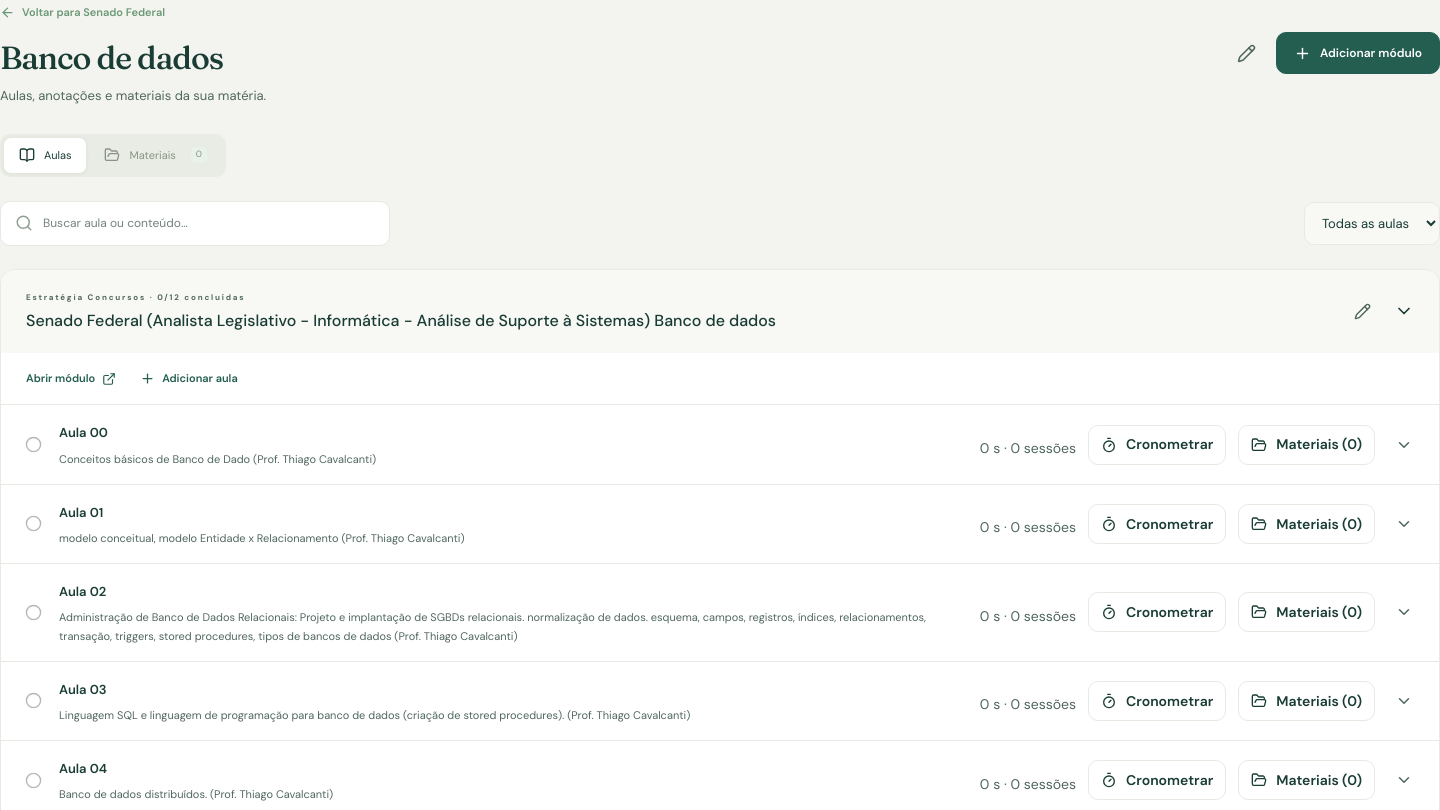
courses first study hierarchy › opens a lesson timer without starting it, keeps the running indicator across modal closing and updates the saved total
What coordinates should you click on to do the following:
click the button with test id "lesson-focus-240830:aula:00"
I would click on:
 (1157, 444)
Its box is [1088,424,1226,464].
Wait 5000 ms
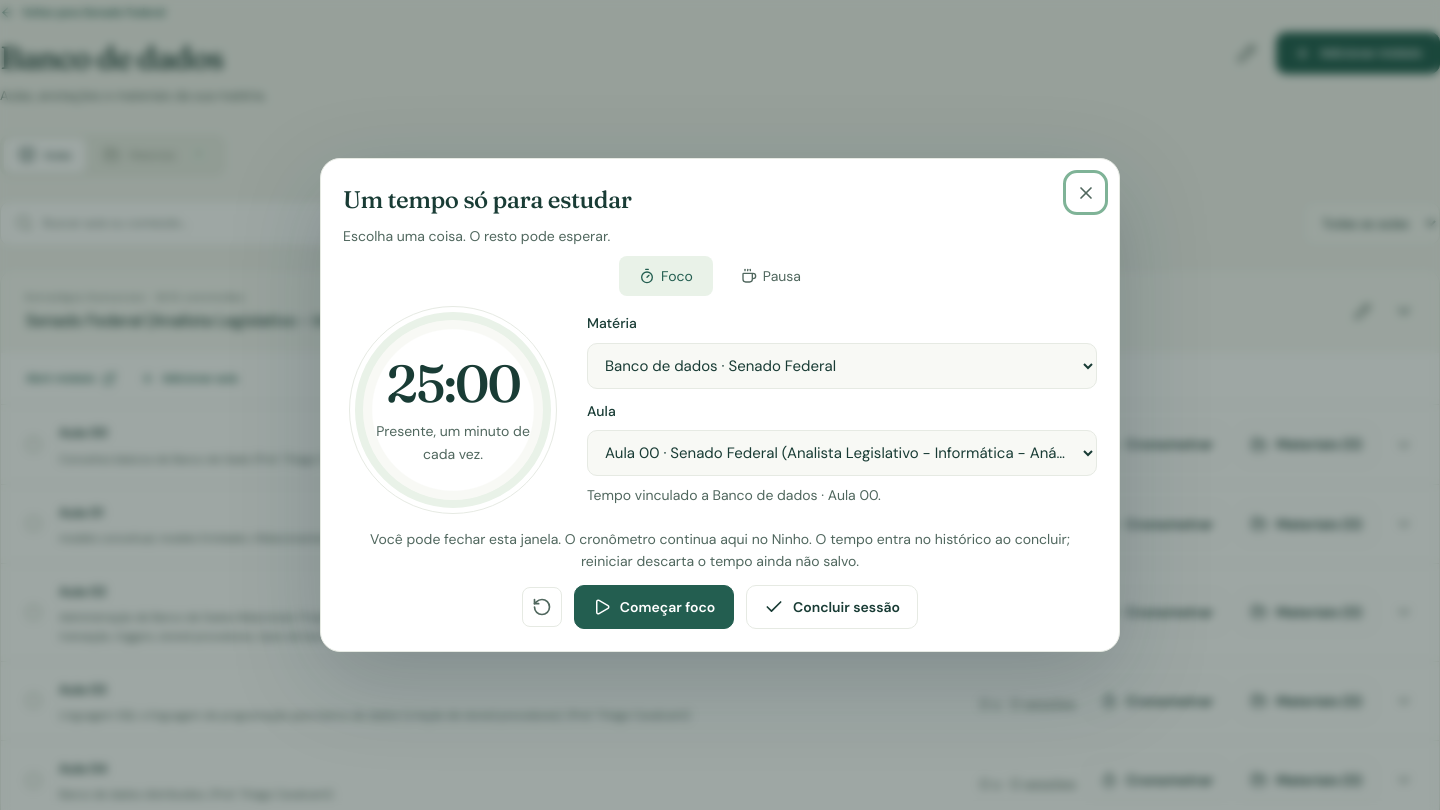
Result: the text with test id "focus-lesson" shows "Banco de dados · Aula 00" at [587,486,881,504]
Result: the text with test id "focus-timer" reads "25:00" at [386,351,520,415]
What coordinates should you click on to do the following:
click the button "Começar foco"
I would click on:
 (654, 607)
Its box is [574,585,734,629].
Wait 1500 ms
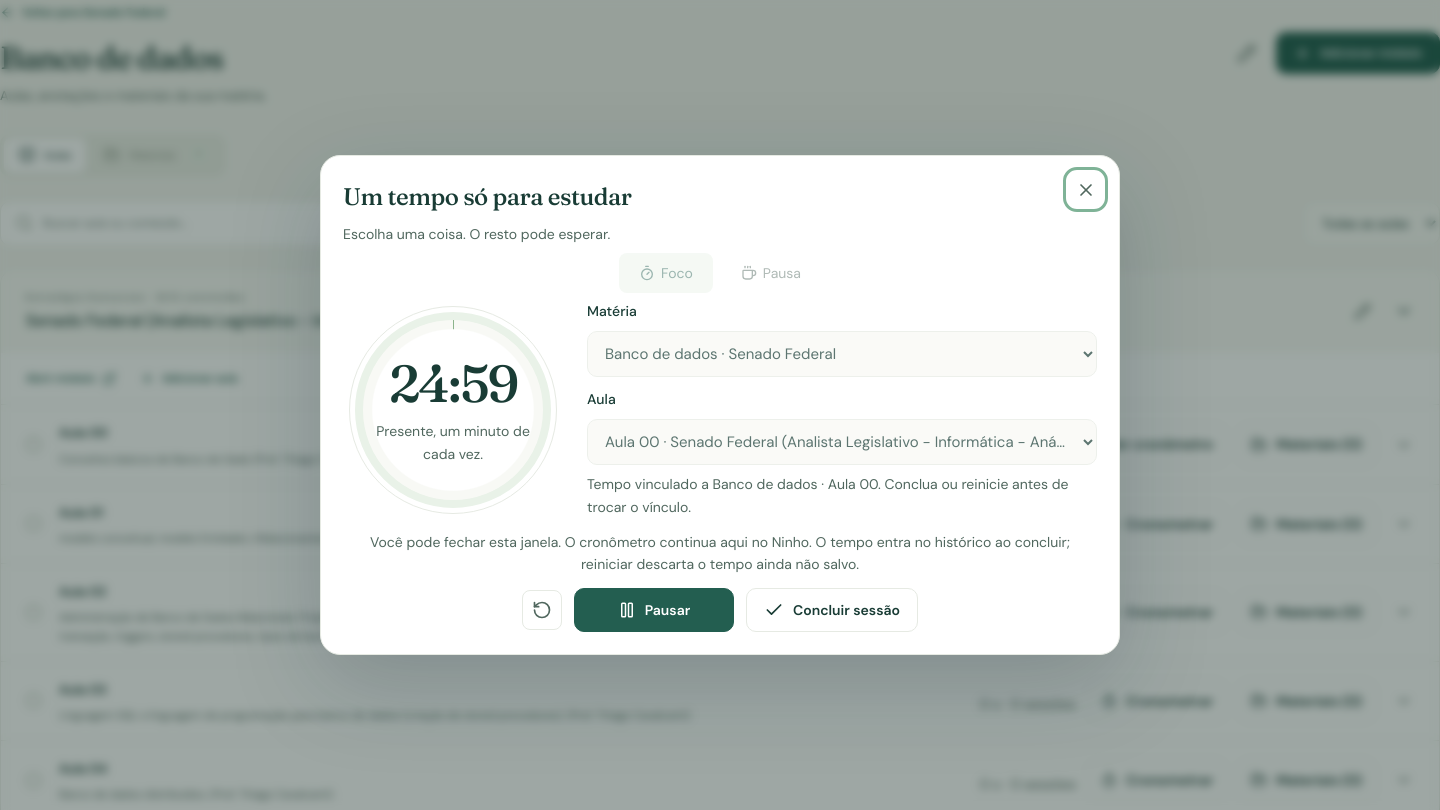
What coordinates should you click on to do the following:
click the button named "Fechar janela"
I would click on:
 (1086, 190)
Its box is [1069,173,1102,206].
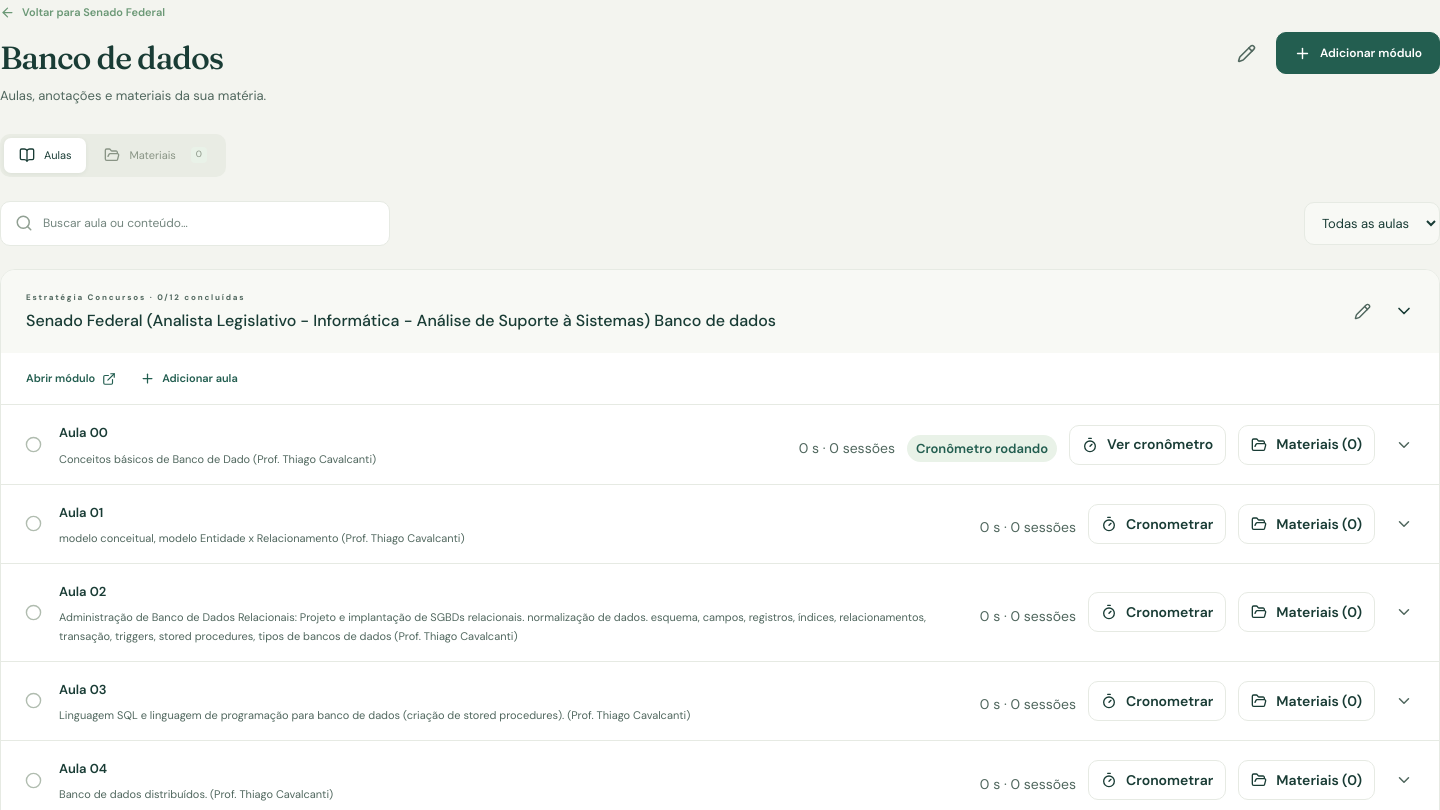
Result: the text with test id "lesson-focus-active-240830:aula:00" reads "Cronômetro rodando" at [916,440,1048,457]
What coordinates should you click on to do the following:
click the button with test id "lesson-focus-240830:aula:00"
I would click on:
 (1148, 444)
Its box is [1069,424,1226,464].
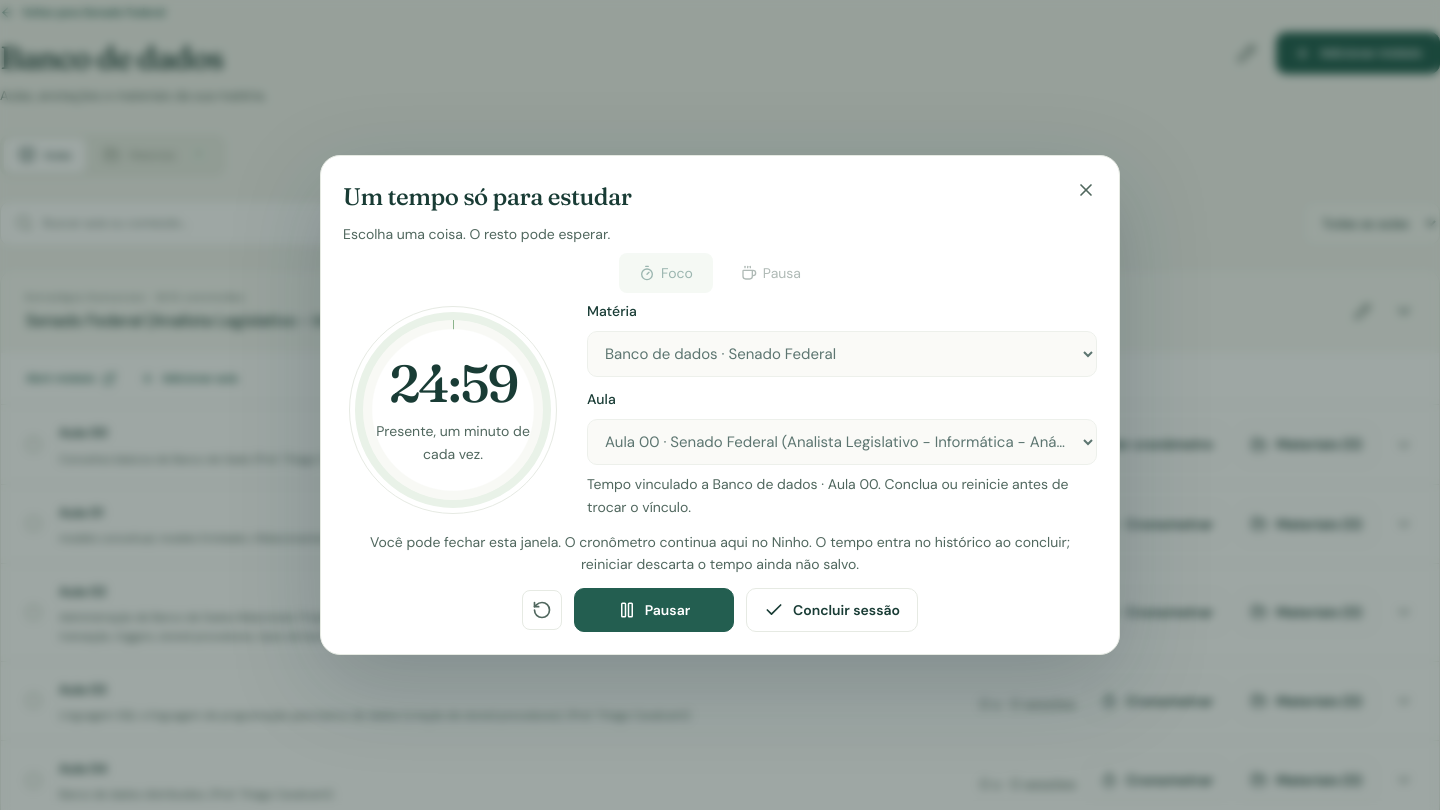
What coordinates should you click on to do the following:
click the button "Pausar"
I would click on:
 (654, 610)
Its box is [574,588,734,632].
Wait 2000 ms
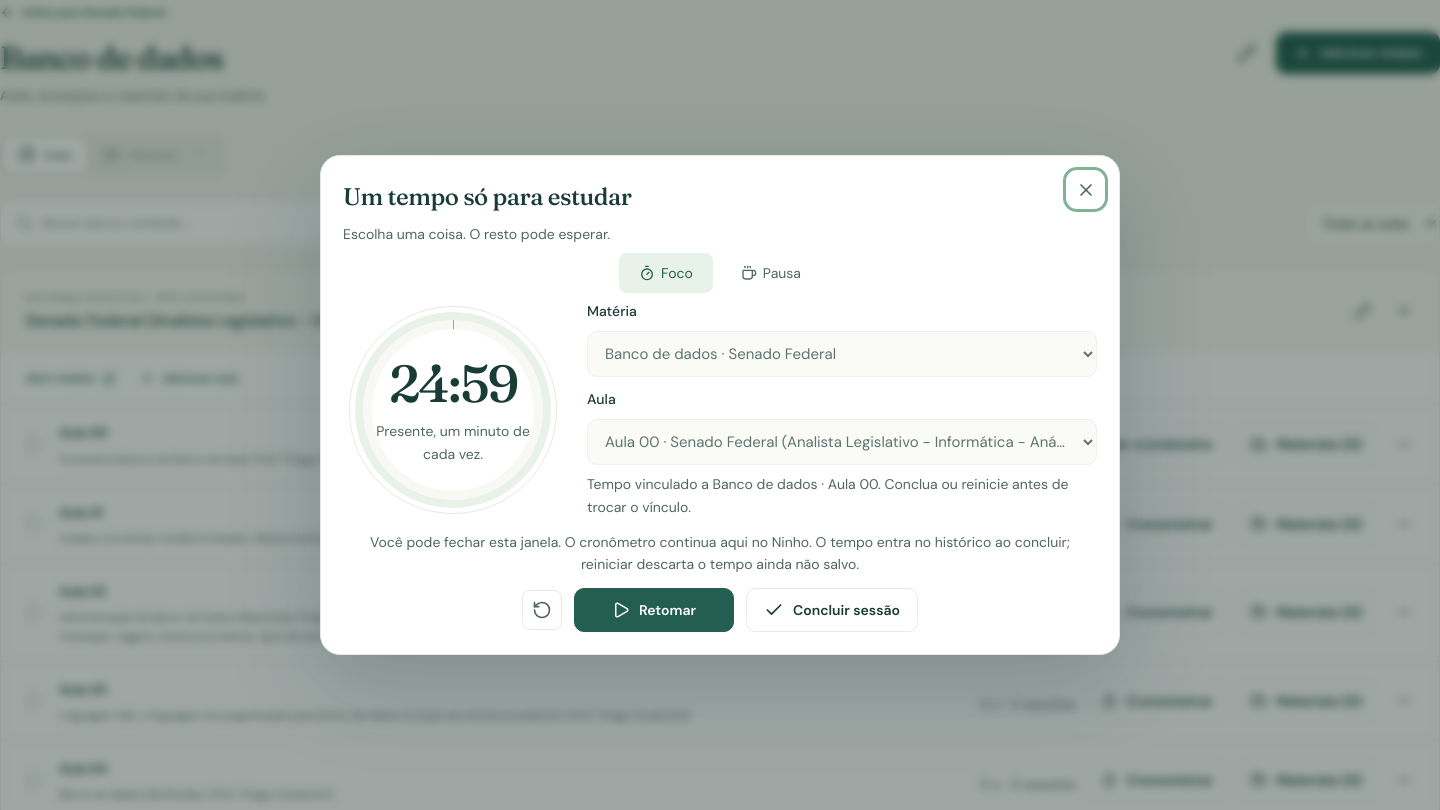
Expected: the text with test id "lesson-focus-active-240830:aula:00" reads "Cronômetro pausado", [915,440,1048,457]
What coordinates should you click on to do the following:
click the button "Concluir sessão"
I would click on:
 (832, 610)
Its box is [746,588,918,632].
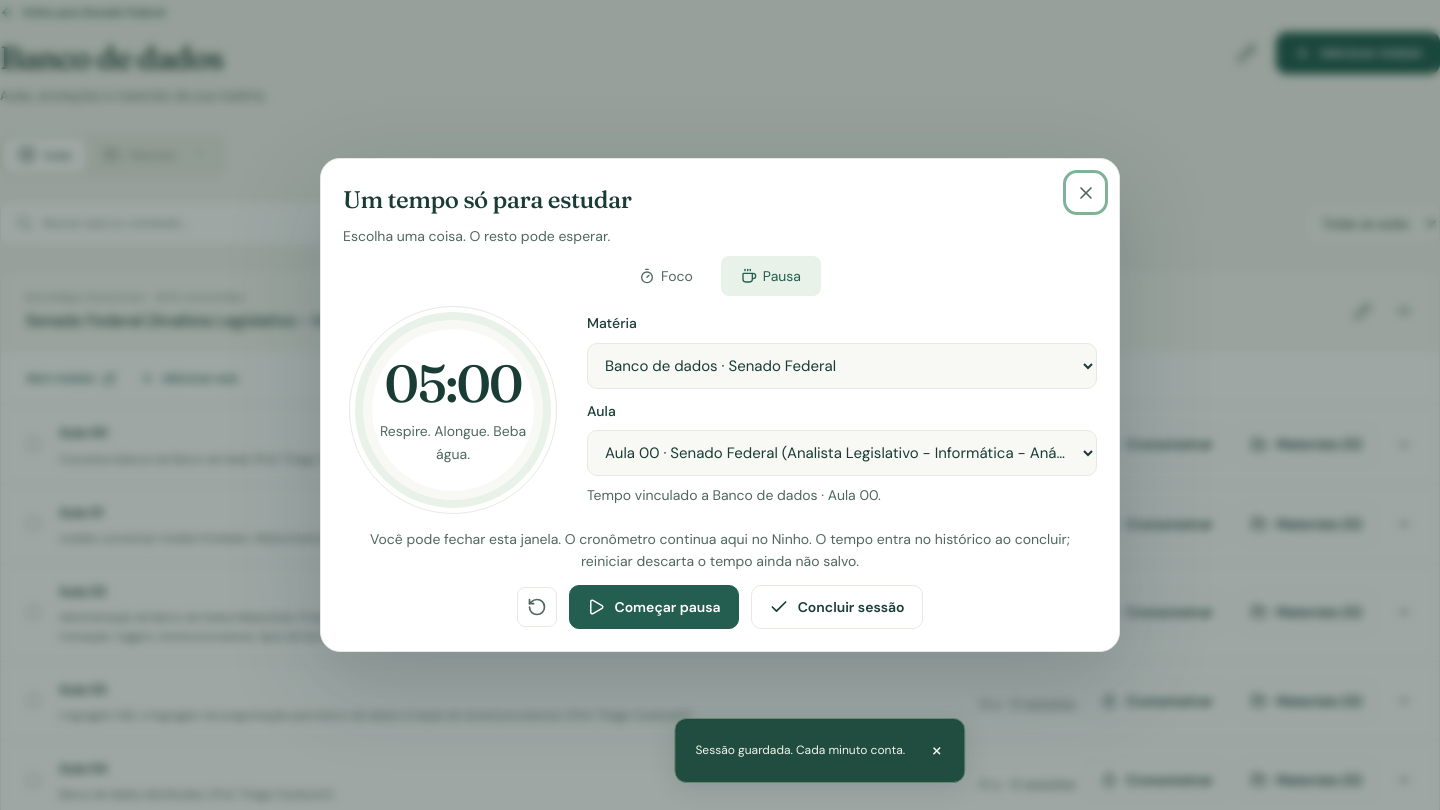
Result: the element with test id "lesson-time-240830:aula:00" reads "1 s · 1 sessão" at [998,437,1076,460]
